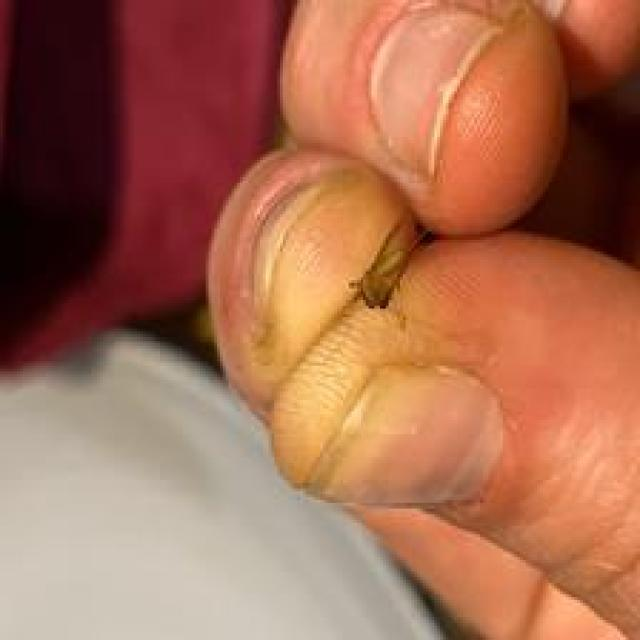Culex: (346, 215, 423, 312)
